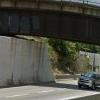Bridge: (4, 1, 96, 51)
